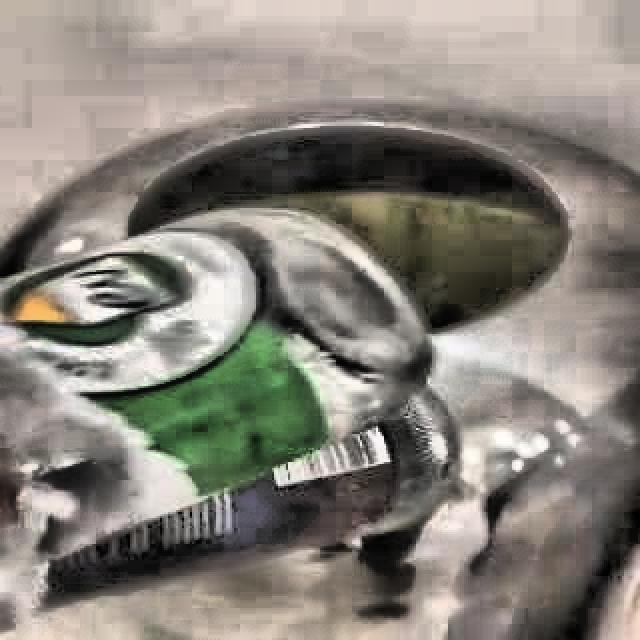glass: (0, 208, 456, 614)
